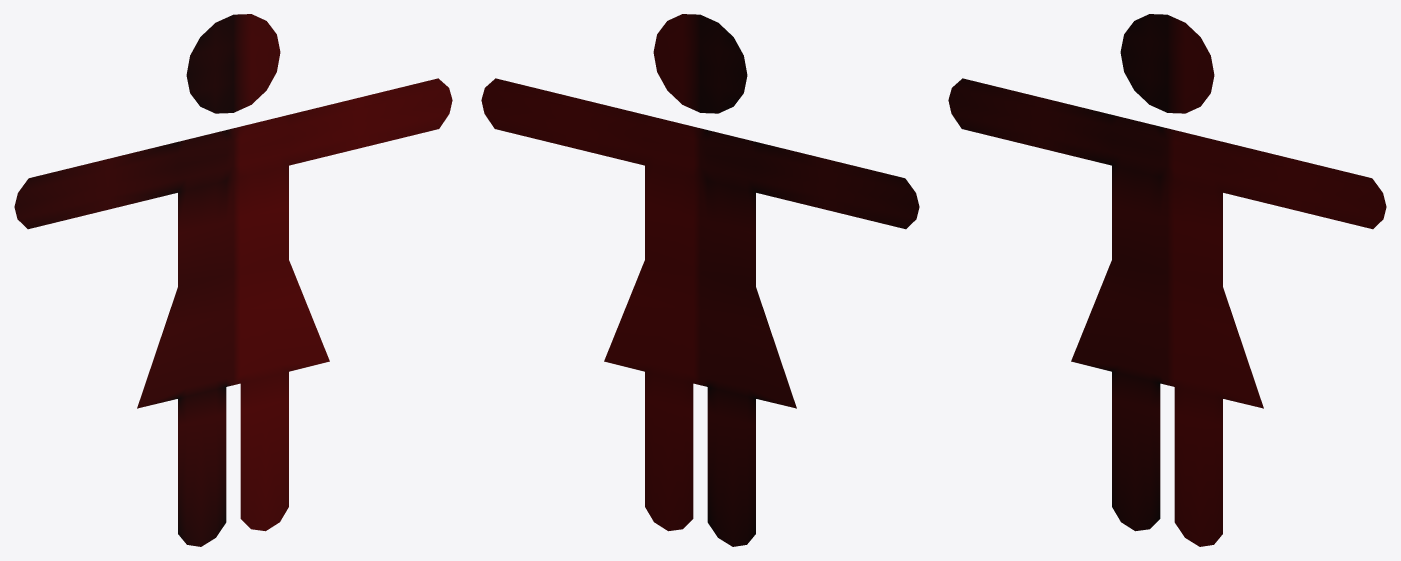
Rendered from pictogram.gltf.
3 renders of one model, left to right at view 1: azimuth 30°, elevation 25°; view 2: azimuth 150°, elevation 25°; view 3: azimuth 330°, elevation 25°, orthographic.
Parts seen in each view (by area): view 1: pictogram; view 2: pictogram; view 3: pictogram.
Boxes of the visible parts, x1,y1,x2,y2 form: pictogram: (14,14,452,546); pictogram: (481,14,919,546); pictogram: (948,14,1386,546).
Size of the model in its own units: 2.63 by 3.01 by 0.
